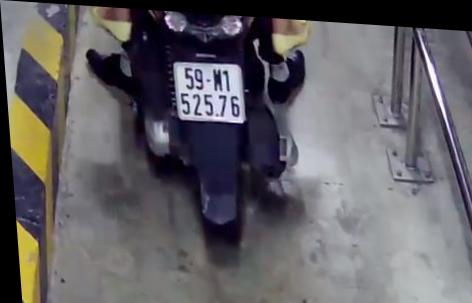License_Plate: (164, 51, 249, 128)
